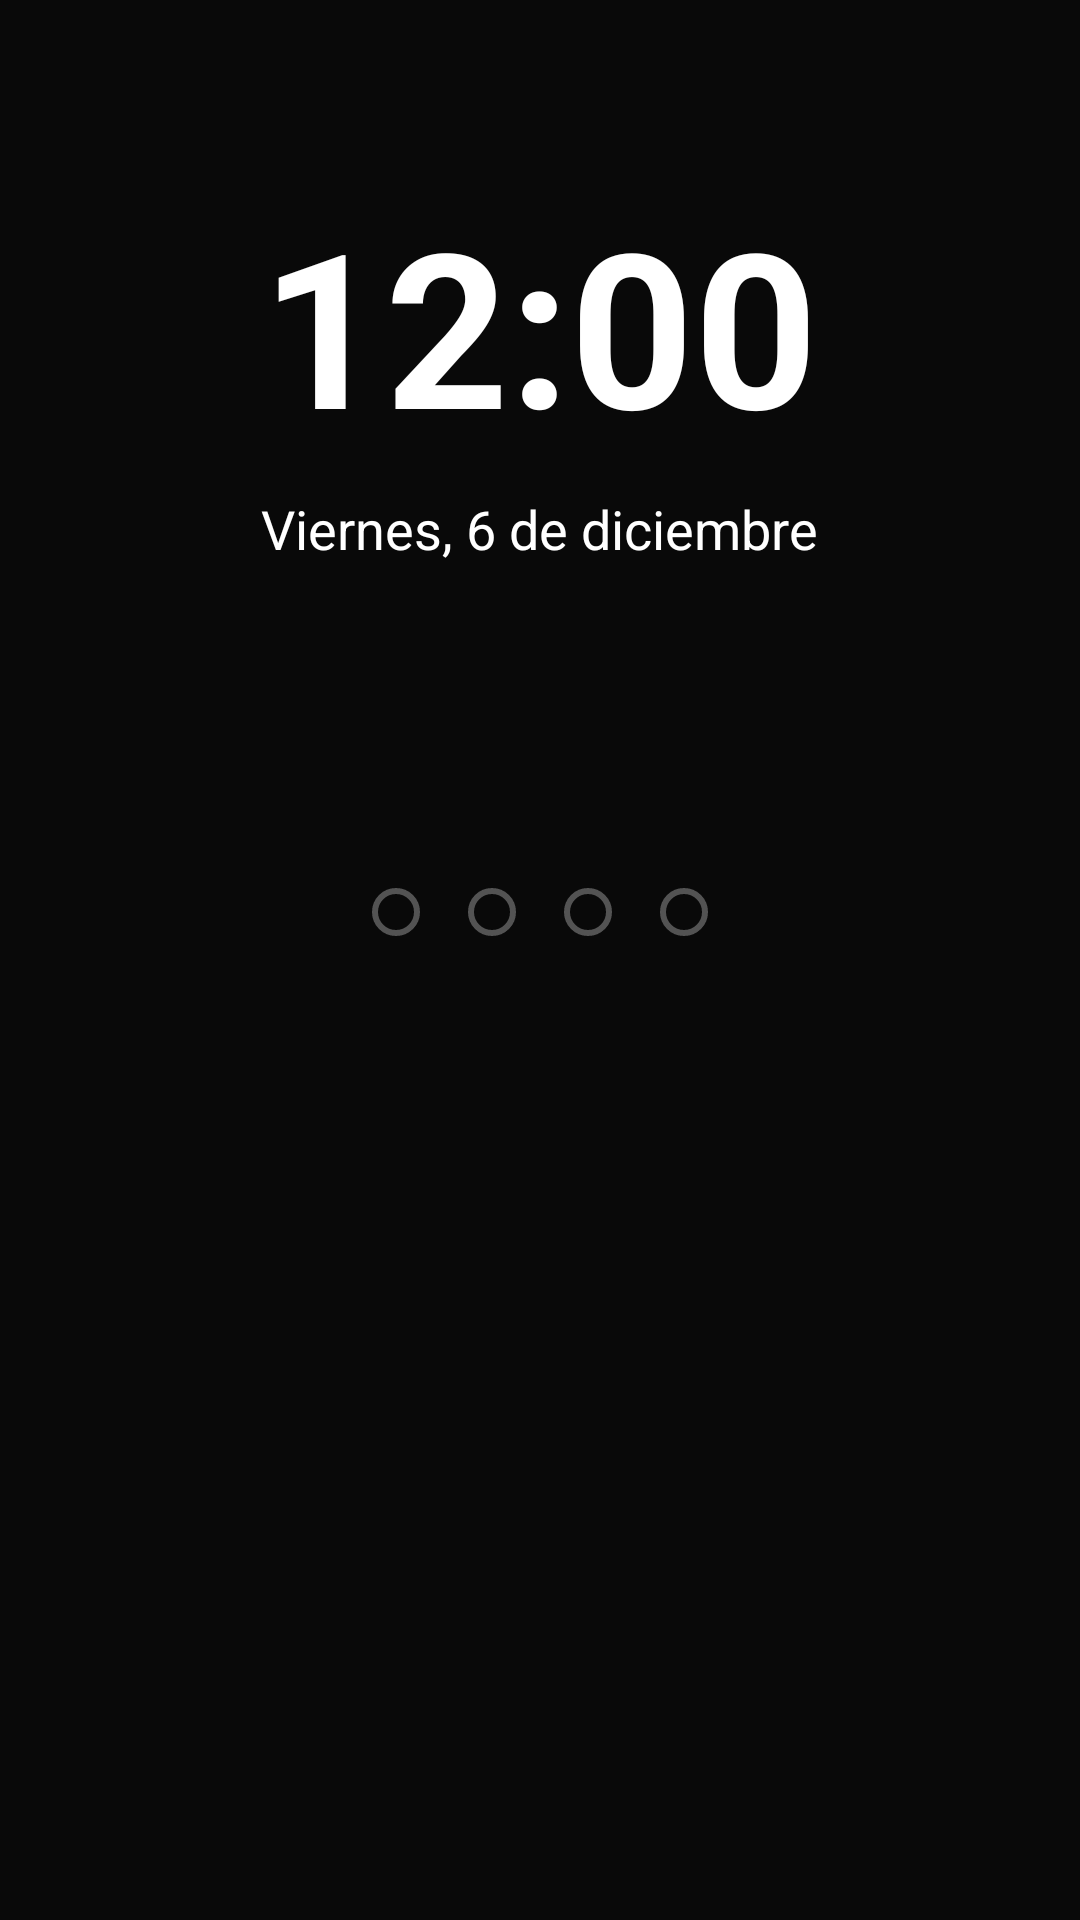

Named icons in this screenshot (1080 x 1920) and their bounding boxes, (x1=x1, y1=y1, x2=x2, y2=y2):
pin dot empty: (x1=372, y1=888, x2=420, y2=936), (x1=468, y1=888, x2=516, y2=936), (x1=564, y1=888, x2=612, y2=936), (x1=660, y1=888, x2=708, y2=936)
